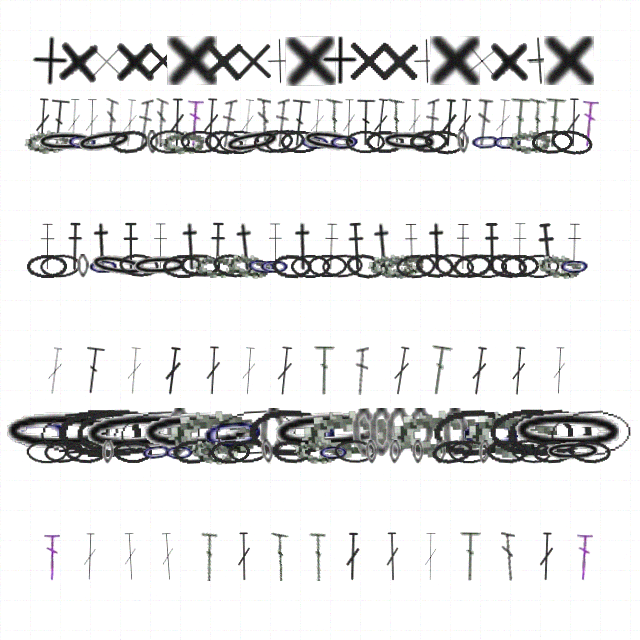chain: (77, 405, 202, 461), (266, 405, 391, 460), (135, 407, 259, 459), (507, 407, 630, 458), (0, 408, 121, 457), (300, 406, 394, 460), (167, 406, 260, 460), (390, 406, 483, 459), (35, 405, 122, 461), (505, 406, 593, 460), (212, 406, 298, 459), (547, 406, 633, 459), (466, 408, 557, 458), (117, 407, 204, 459), (76, 408, 162, 458), (432, 408, 517, 458), (248, 408, 332, 458), (57, 408, 141, 457), (489, 408, 573, 457), (198, 406, 269, 460), (5, 407, 74, 458), (273, 408, 342, 458), (458, 408, 526, 458), (221, 125, 284, 159), (73, 125, 136, 158), (87, 250, 149, 282), (299, 126, 361, 157), (378, 249, 426, 283), (379, 129, 440, 155), (130, 253, 190, 279), (543, 439, 603, 464), (35, 130, 95, 154), (351, 408, 379, 458), (549, 127, 594, 157), (225, 251, 271, 280), (189, 437, 235, 466), (259, 408, 286, 457), (385, 408, 412, 457), (442, 408, 469, 457), (211, 251, 255, 281), (430, 437, 474, 467), (344, 251, 387, 281), (536, 252, 582, 280), (166, 408, 192, 457), (369, 408, 395, 457), (407, 408, 433, 457), (263, 127, 306, 156), (433, 251, 476, 280), (509, 437, 552, 466), (451, 251, 493, 280), (486, 251, 528, 280), (24, 128, 69, 155), (506, 128, 551, 155), (423, 128, 466, 156), (109, 128, 151, 156), (203, 128, 245, 156), (160, 129, 205, 155), (252, 128, 294, 155), (118, 252, 160, 279), (414, 252, 456, 279), (43, 438, 85, 465), (39, 253, 82, 279), (321, 253, 364, 279), (368, 253, 412, 278), (294, 439, 338, 464), (395, 253, 437, 279), (64, 439, 106, 465), (485, 439, 527, 465), (532, 439, 574, 465), (569, 439, 611, 465), (271, 253, 312, 279), (271, 439, 312, 465), (193, 254, 237, 278), (531, 129, 573, 154), (227, 439, 269, 464), (149, 129, 190, 154), (179, 253, 220, 278), (172, 439, 213, 464), (210, 439, 251, 464), (334, 439, 375, 464), (218, 130, 260, 154), (244, 252, 280, 280), (518, 254, 560, 278), (409, 129, 449, 154), (180, 130, 221, 154), (280, 130, 321, 154), (26, 254, 67, 278), (162, 254, 203, 278), (290, 254, 331, 278), (466, 254, 507, 278), (26, 440, 67, 464), (448, 440, 489, 464), (345, 130, 385, 154), (365, 130, 405, 154), (307, 254, 347, 278), (500, 254, 540, 278), (113, 440, 153, 464), (139, 438, 174, 465), (298, 129, 332, 155), (469, 129, 503, 154), (66, 129, 99, 154), (328, 129, 361, 154), (491, 130, 524, 154), (87, 254, 120, 278), (258, 254, 291, 278), (558, 254, 591, 278), (163, 440, 196, 464), (317, 440, 350, 464), (260, 439, 275, 464), (456, 129, 470, 154), (146, 130, 159, 154), (365, 440, 378, 464), (478, 440, 491, 464), (77, 254, 89, 278), (102, 440, 114, 464), (389, 440, 401, 464), (412, 440, 424, 464), (434, 440, 446, 464)
double: (426, 345, 453, 396), (81, 345, 106, 396), (287, 98, 312, 148), (542, 98, 567, 148), (47, 98, 71, 148), (508, 98, 532, 148), (390, 346, 413, 396), (44, 346, 66, 396), (162, 346, 184, 396), (468, 346, 490, 396), (237, 98, 258, 148), (370, 98, 391, 148), (492, 98, 513, 148), (274, 346, 295, 396), (314, 346, 335, 395), (460, 532, 481, 581), (120, 98, 140, 148), (307, 98, 327, 148), (474, 98, 494, 148), (579, 98, 599, 148), (124, 346, 144, 396), (201, 98, 221, 147), (356, 98, 376, 147), (527, 98, 547, 147), (198, 532, 218, 581), (219, 98, 238, 148), (440, 98, 459, 148), (455, 98, 474, 148), (239, 346, 258, 396), (509, 346, 528, 396), (33, 98, 52, 147), (185, 98, 204, 147), (158, 532, 177, 581), (136, 98, 154, 148), (65, 98, 83, 147), (168, 98, 186, 147), (325, 98, 343, 147), (340, 98, 358, 147), (387, 98, 405, 147), (204, 346, 222, 395), (550, 346, 568, 395), (121, 532, 139, 581), (271, 532, 289, 581), (308, 532, 326, 581), (575, 532, 593, 581), (83, 98, 100, 147), (406, 98, 423, 147), (565, 98, 582, 147), (81, 532, 98, 581), (344, 532, 361, 581), (384, 532, 401, 581), (422, 532, 439, 581), (538, 532, 555, 581), (103, 98, 119, 147), (153, 98, 169, 147), (274, 98, 290, 147), (44, 532, 60, 581), (236, 532, 252, 581), (256, 98, 271, 147), (425, 98, 440, 147), (354, 346, 369, 395), (501, 532, 515, 581)
half_double: (230, 222, 261, 272), (368, 222, 398, 272), (88, 222, 116, 271), (177, 222, 205, 271), (289, 222, 317, 271), (423, 222, 451, 271), (535, 222, 558, 272), (346, 222, 367, 271), (65, 222, 85, 271), (321, 222, 341, 271), (401, 222, 421, 271), (564, 222, 584, 271), (38, 222, 57, 271), (121, 222, 140, 271), (151, 222, 170, 271), (208, 222, 227, 271), (453, 222, 472, 271), (482, 222, 501, 271), (510, 222, 529, 271), (266, 222, 284, 271)
single: (455, 34, 508, 87), (197, 35, 248, 86), (285, 36, 336, 86), (81, 36, 131, 86), (228, 36, 278, 86), (255, 36, 305, 86), (374, 36, 424, 86), (402, 36, 452, 86), (55, 35, 103, 87), (167, 36, 217, 85), (430, 36, 480, 85), (544, 36, 594, 85), (138, 36, 187, 85), (344, 36, 393, 85), (113, 36, 158, 85), (487, 36, 532, 85), (30, 36, 69, 86), (320, 36, 358, 85), (526, 36, 554, 86)
